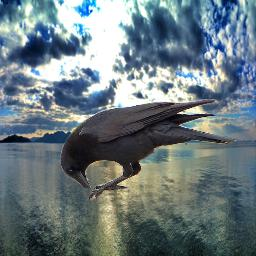Crow: (60, 99, 237, 203)
